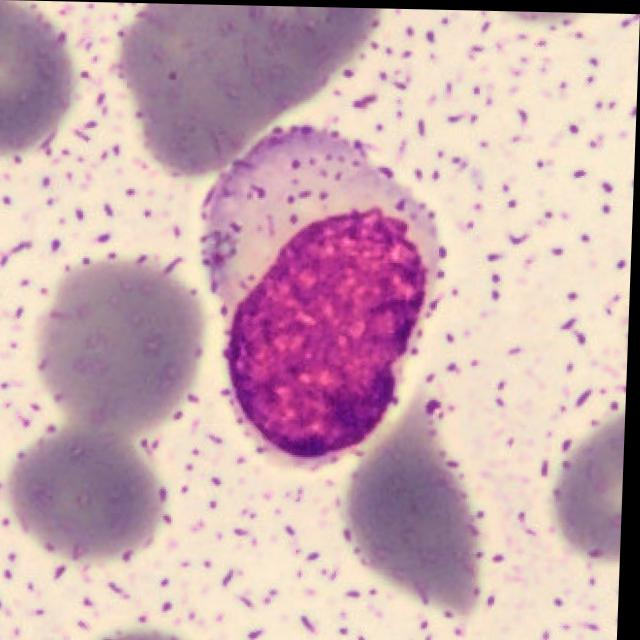Mieloblasto: (202, 124, 449, 457)
